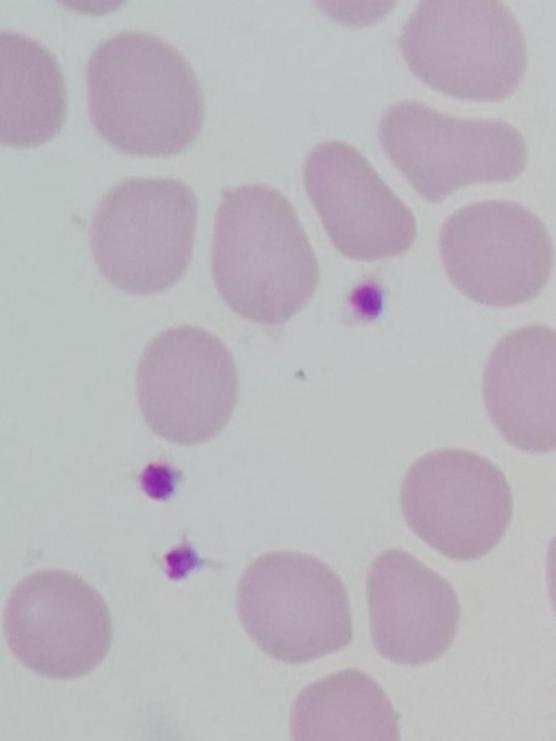Uninfected: (210, 183, 320, 324), (377, 103, 530, 204), (87, 33, 203, 158), (301, 139, 416, 261), (234, 550, 353, 664), (88, 176, 198, 297), (399, 0, 524, 102), (399, 449, 511, 562), (1, 567, 112, 678), (134, 325, 236, 445), (439, 198, 550, 308), (364, 549, 459, 666), (482, 325, 556, 453), (0, 29, 67, 148), (289, 671, 399, 738)
